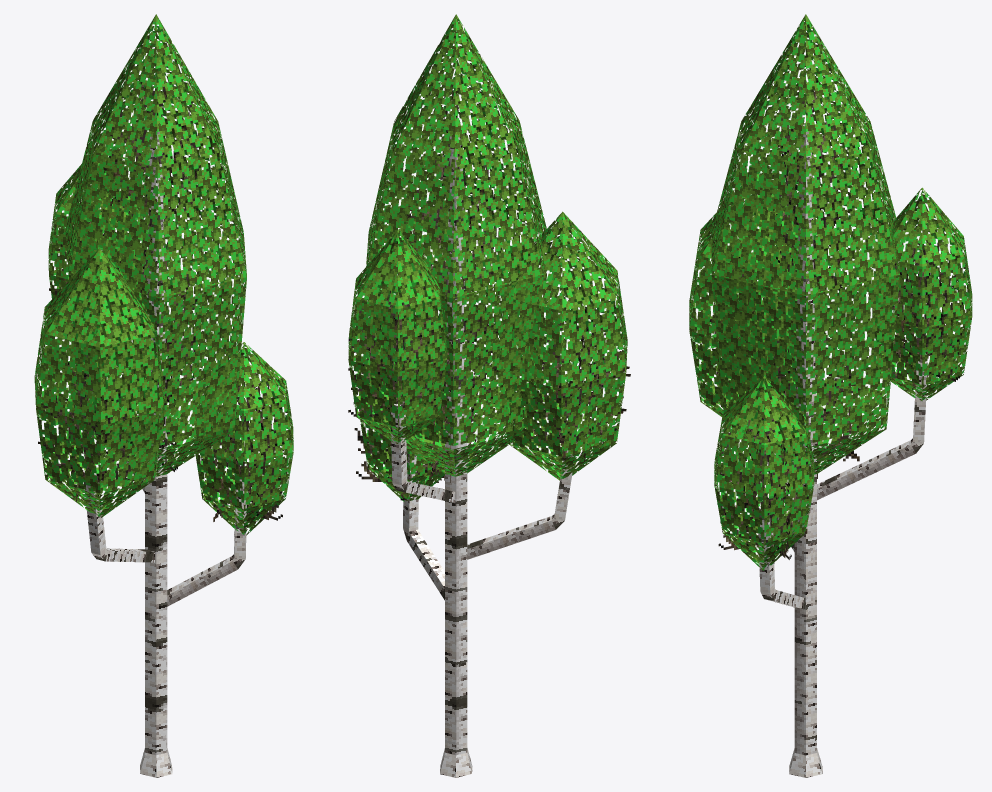
The model's file is birch_tree.gltf.
3 views of the same model, side by side, from view 1: azimuth 30°, elevation 25°; view 2: azimuth 150°, elevation 25°; view 3: azimuth 270°, elevation 25° (orthographic).
Visible parts, largest first — view 1: leaves, trunk, branches; view 2: leaves, trunk, branches; view 3: leaves, trunk, branches.
Boxes of the visible parts, <box> form: leaves: <box>34,14,293,535</box>; trunk: <box>84,131,247,777</box>; branches: <box>38,82,285,521</box>; leaves: <box>348,14,627,501</box>; trunk: <box>390,136,577,777</box>; branches: <box>348,78,630,500</box>; leaves: <box>689,14,972,570</box>; trunk: <box>753,124,927,777</box>; branches: <box>709,80,963,563</box>.
Size of the model in its own units: 7.23 by 18.81 by 6.5.
Materials: 2 (2 with a texture image).
